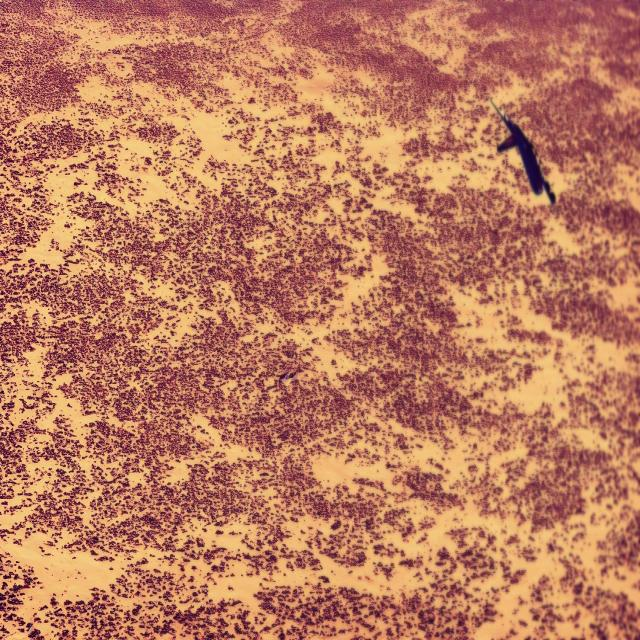airplane: (488, 96, 556, 206)
